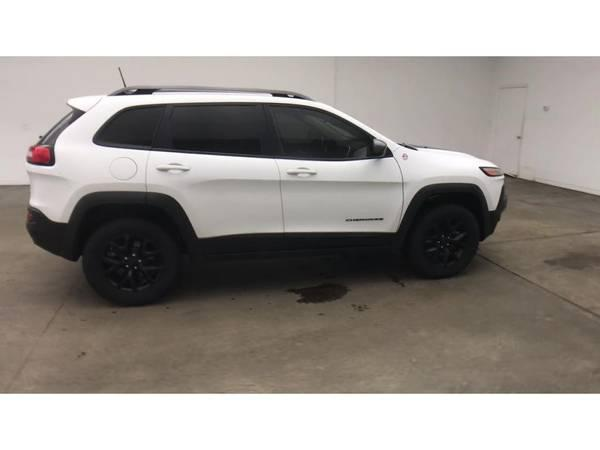Front_Bumper: (484, 187, 506, 242)
Front_Fender: (393, 149, 503, 237)
Front_Right_Door: (274, 159, 402, 254)
Front_Right_Window: (273, 103, 403, 164)
Rear_Bumper: (23, 207, 77, 266)
Rear_Fender: (25, 104, 171, 230)
Rear_Right_Door: (144, 149, 285, 256)
Rear_Right_Window: (151, 102, 281, 158)
Right_Headlight: (480, 166, 505, 178)
Right_Taillight: (25, 143, 56, 166)
Roof: (55, 86, 336, 140)
Wheel: (82, 215, 183, 306), (411, 201, 480, 274)
